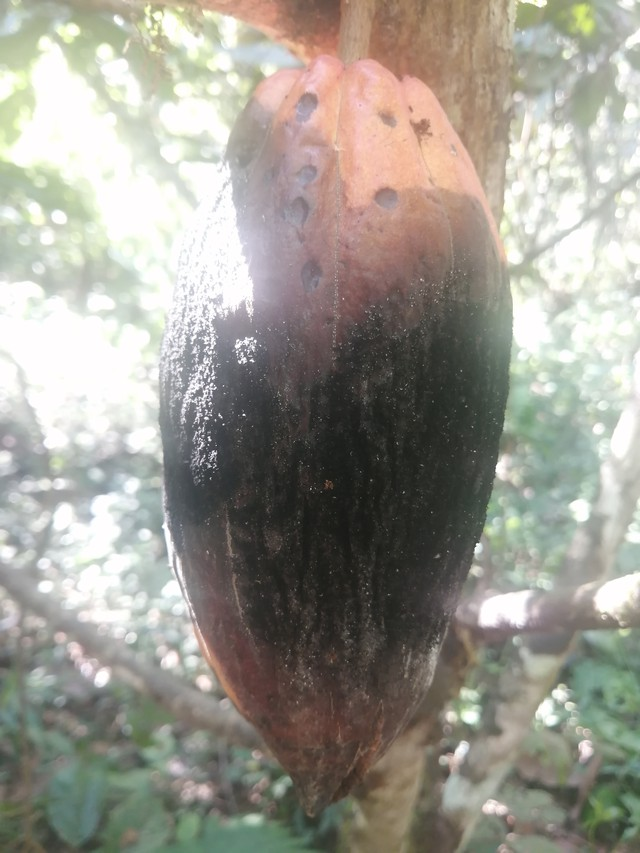phytophthora palmivora: (120, 41, 526, 843)
